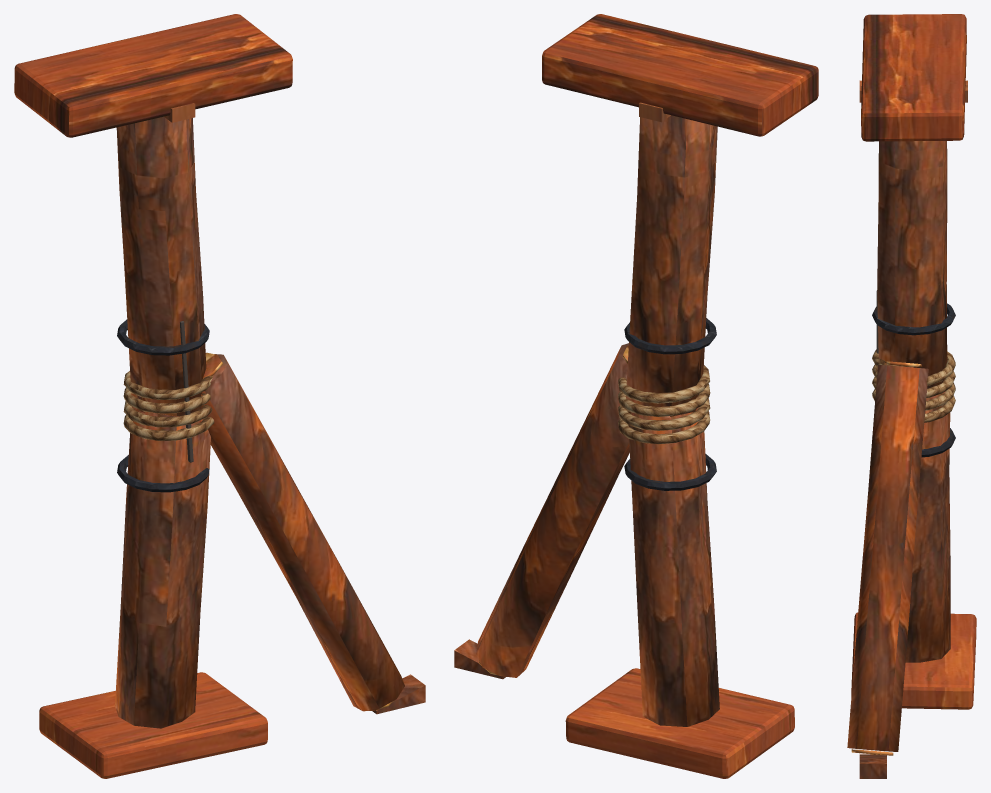
File: mp_prop_cracked.glb
The picture shows the model from 3 angles, left to right: view 1: azimuth 30°, elevation 25°; view 2: azimuth 150°, elevation 25°; view 3: azimuth 270°, elevation 25°; orthographic projection. The views are drawn at different scales.
Visible parts, largest first — view 1: model; view 2: model; view 3: model.
Part boxes in pixels (x1,y1,x2,y2): model: (14,14,425,778); model: (454,14,818,778); model: (847,14,976,778).
Bounding box in the file's own units: 1.09 × 2 × 0.3817.
13 materials, 12 textured.
